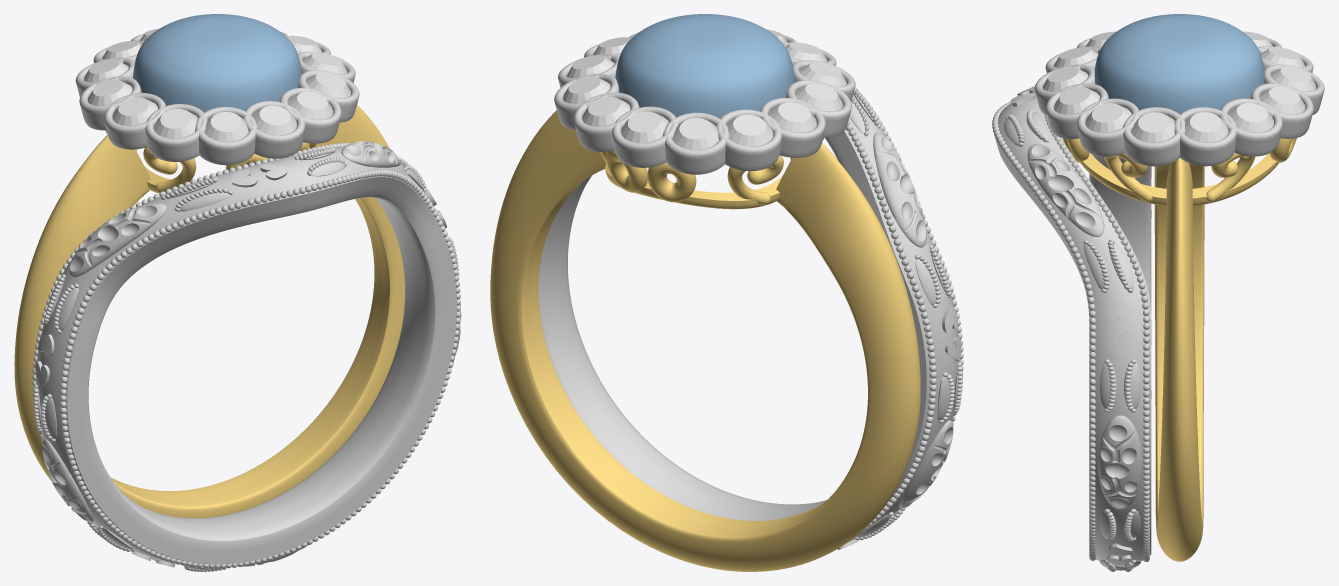
File: SarahYGPTwbpattern.glb
3 views of the same model, side by side, from view 1: azimuth 30°, elevation 25°; view 2: azimuth 150°, elevation 25°; view 3: azimuth 270°, elevation 25° (orthographic). The views are drawn at different scales.
Parts seen in each view (by area): view 1: Sarah PT for 3d model (2).446, Sarah PT for 3d model (2).445, Sarah opal for 3d model, Sarah PT for 3d model, Sarah PT for 3d model (2).700, Sarah PT for 3d model (2).509, Sarah PT for 3d model (2).494, Sarah dia for 3d model.008, Sarah PT for 3d model (2).444, Sarah dia for 3d model.009, Sarah dia for 3d model.007, Sarah dia for 3d model.010 (+5 smaller); view 2: Sarah PT for 3d model (2).445, Sarah PT for 3d model (2).446, Sarah opal for 3d model, Sarah PT for 3d model, Sarah PT for 3d model (2).700, Sarah PT for 3d model (2).509, Sarah PT for 3d model (2).447, Sarah PT for 3d model (2).438, Sarah PT for 3d model (2).437, Sarah dia for 3d model.013, Sarah dia for 3d model.012, Sarah dia for 3d model (+7 smaller); view 3: Sarah PT for 3d model (2).445, Sarah PT for 3d model (2).446, Sarah opal for 3d model, Sarah PT for 3d model, Sarah PT for 3d model (2).494, Sarah PT for 3d model (2).511, Sarah PT for 3d model (2).447, Sarah PT for 3d model (2).439, Sarah PT for 3d model (2).441, Sarah dia for 3d model.004, Sarah dia for 3d model.003, Sarah dia for 3d model.002 (+12 smaller).
Part boxes in pixels (<box>): Sarah PT for 3d model (2).446: <box>35,146,456,565</box>; Sarah PT for 3d model (2).445: <box>14,105,404,518</box>; Sarah opal for 3d model: <box>133,14,301,112</box>; Sarah PT for 3d model: <box>75,31,359,165</box>; Sarah PT for 3d model (2).700: <box>69,203,166,277</box>; Sarah PT for 3d model (2).509: <box>42,439,93,522</box>; Sarah PT for 3d model (2).494: <box>341,141,400,167</box>; Sarah dia for 3d model.008: <box>204,112,248,141</box>; Sarah PT for 3d model (2).444: <box>143,147,196,193</box>; Sarah dia for 3d model.009: <box>153,109,197,138</box>; Sarah dia for 3d model.007: <box>252,105,296,135</box>; Sarah dia for 3d model.010: <box>112,97,157,125</box>; Sarah PT for 3d model (2).445: <box>490,110,920,571</box>; Sarah PT for 3d model (2).446: <box>538,95,960,541</box>; Sarah opal for 3d model: <box>615,14,794,118</box>; Sarah PT for 3d model: <box>554,32,855,174</box>; Sarah PT for 3d model (2).700: <box>873,132,926,247</box>; Sarah PT for 3d model (2).509: <box>899,420,953,508</box>; Sarah PT for 3d model (2).447: <box>605,164,782,209</box>; Sarah PT for 3d model (2).438: <box>647,162,696,202</box>; Sarah PT for 3d model (2).437: <box>727,155,783,204</box>; Sarah dia for 3d model.013: <box>672,118,719,149</box>; Sarah dia for 3d model.012: <box>726,114,773,146</box>; Sarah dia for 3d model: <box>621,111,668,142</box>; Sarah PT for 3d model (2).445: <box>1154,158,1204,561</box>; Sarah PT for 3d model (2).446: <box>994,94,1151,566</box>; Sarah opal for 3d model: <box>1094,14,1264,114</box>; Sarah PT for 3d model: <box>1034,38,1324,166</box>; Sarah PT for 3d model (2).494: <box>1027,144,1104,236</box>; Sarah PT for 3d model (2).511: <box>1098,415,1142,509</box>; Sarah PT for 3d model (2).447: <box>1080,153,1278,205</box>; Sarah PT for 3d model (2).439: <box>1206,152,1255,202</box>; Sarah PT for 3d model (2).441: <box>1104,153,1152,202</box>; Sarah dia for 3d model.004: <box>1131,112,1174,142</box>; Sarah dia for 3d model.003: <box>1185,112,1228,142</box>; Sarah dia for 3d model.002: <box>1228,103,1274,132</box>.
Size of the model in its own units: 20.59 by 23.99 by 13.93.
